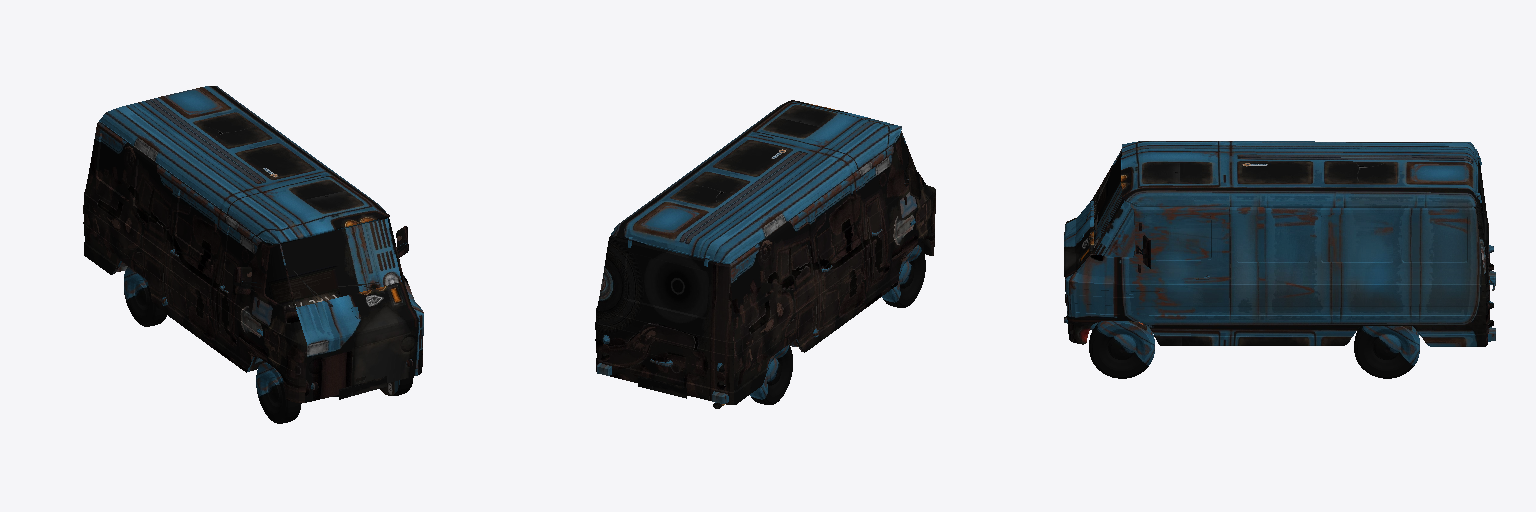
3 views of the same model, side by side, from view 1: azimuth 30°, elevation 25°; view 2: azimuth 150°, elevation 25°; view 3: azimuth 270°, elevation 25° (orthographic).
Visible parts, largest first — view 1: Plane.018_Plane.009; view 2: Plane.018_Plane.009; view 3: Plane.018_Plane.009.
Part boxes in pixels (bbox=[...]): Plane.018_Plane.009: bbox=[83, 86, 423, 423]; Plane.018_Plane.009: bbox=[595, 100, 935, 408]; Plane.018_Plane.009: bbox=[1064, 141, 1495, 378].
Size of the model in its own units: 0.6339 by 0.6406 by 1.35.
Materials: 1 (1 with a texture image).